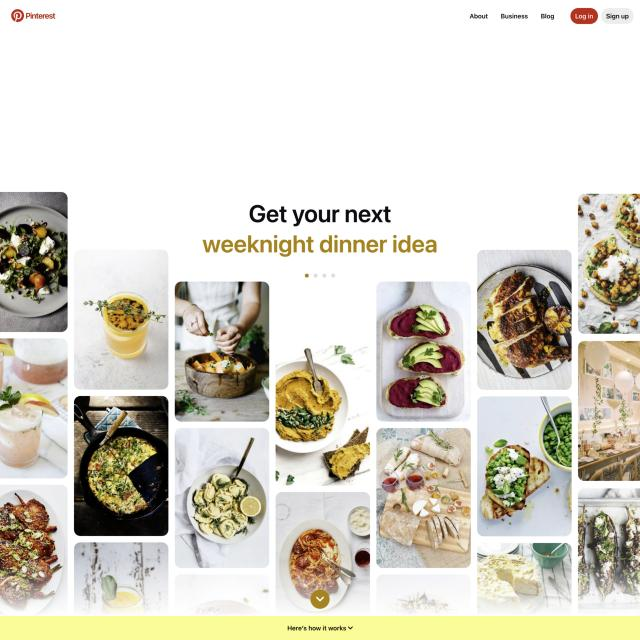logo: (9, 7, 56, 24)
navigation: (466, 8, 557, 23)
